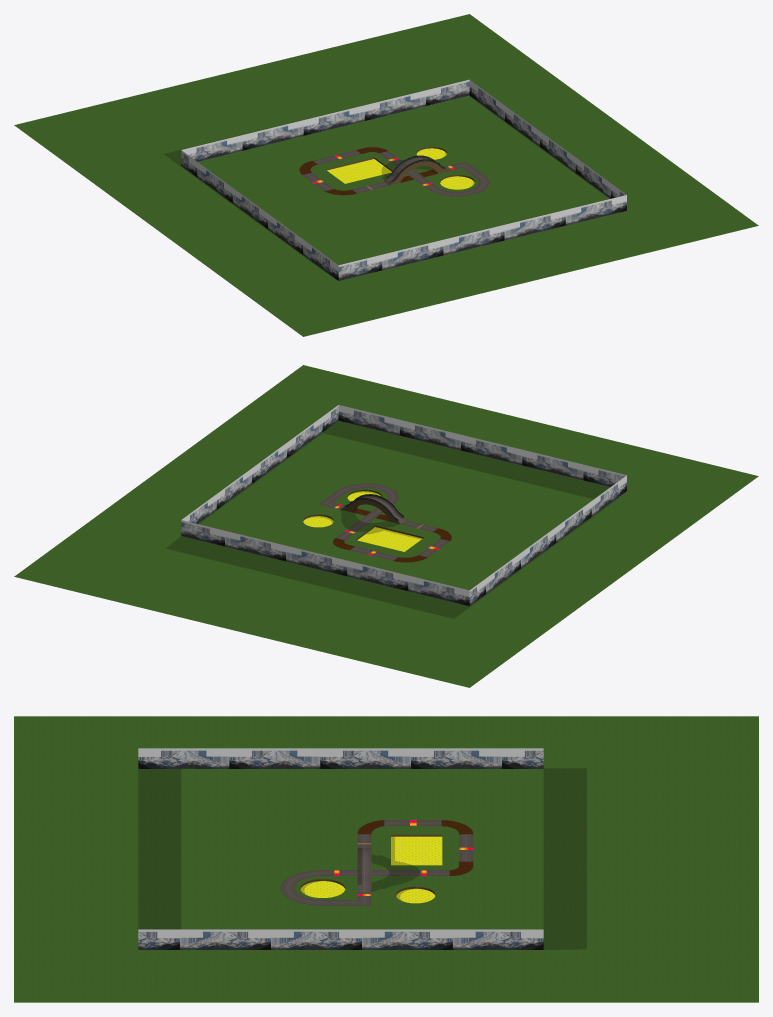
3 views of the same model, one above another, from view 1: azimuth 30°, elevation 25°; view 2: azimuth 150°, elevation 25°; view 3: azimuth 270°, elevation 25° (orthographic). The views are drawn at different scales.
Visible parts, largest first — view 1: SunsetCircuit2-SKP--grass, SunsetCircuit2-SKP--mountain, SunsetCircuit2-SKP--road, SunsetCircuit2-SKP--water, SunsetCircuit2-SKP--grass_shadow, SunsetCircuit2-SKP--mud, SunsetCircuit2-SKP--main_wall; view 2: SunsetCircuit2-SKP--grass, SunsetCircuit2-SKP--mountain, SunsetCircuit2-SKP--grass_shadow, SunsetCircuit2-SKP--road, SunsetCircuit2-SKP--water, SunsetCircuit2-SKP--main_wall_shadow, SunsetCircuit2-SKP--mud; view 3: SunsetCircuit2-SKP--grass, SunsetCircuit2-SKP--mountain, SunsetCircuit2-SKP--grass_shadow, SunsetCircuit2-SKP--road, SunsetCircuit2-SKP--water, SunsetCircuit2-SKP--mud.
Boxes of the visible parts, bbox=[...] form: SunsetCircuit2-SKP--grass: bbox=[14, 14, 758, 336]; SunsetCircuit2-SKP--mountain: bbox=[181, 79, 626, 280]; SunsetCircuit2-SKP--road: bbox=[302, 150, 489, 196]; SunsetCircuit2-SKP--water: bbox=[327, 148, 473, 189]; SunsetCircuit2-SKP--grass_shadow: bbox=[164, 83, 610, 278]; SunsetCircuit2-SKP--mud: bbox=[299, 147, 437, 195]; SunsetCircuit2-SKP--main_wall: bbox=[325, 147, 471, 185]; SunsetCircuit2-SKP--grass: bbox=[14, 365, 758, 687]; SunsetCircuit2-SKP--mountain: bbox=[181, 405, 626, 606]; SunsetCircuit2-SKP--grass_shadow: bbox=[166, 421, 622, 618]; SunsetCircuit2-SKP--road: bbox=[319, 483, 449, 560]; SunsetCircuit2-SKP--water: bbox=[303, 492, 420, 551]; SunsetCircuit2-SKP--main_wall_shadow: bbox=[304, 489, 423, 540]; SunsetCircuit2-SKP--mud: bbox=[333, 508, 451, 562]; SunsetCircuit2-SKP--grass: bbox=[14, 716, 758, 1002]; SunsetCircuit2-SKP--mountain: bbox=[138, 748, 543, 949]; SunsetCircuit2-SKP--grass_shadow: bbox=[138, 768, 586, 949]; SunsetCircuit2-SKP--road: bbox=[280, 820, 473, 905]; SunsetCircuit2-SKP--water: bbox=[304, 836, 442, 903]; SunsetCircuit2-SKP--mud: bbox=[357, 820, 473, 875].
Bounding box in the file's own units: 154848 × 6411 × 170285.
14 materials, 14 textured.
